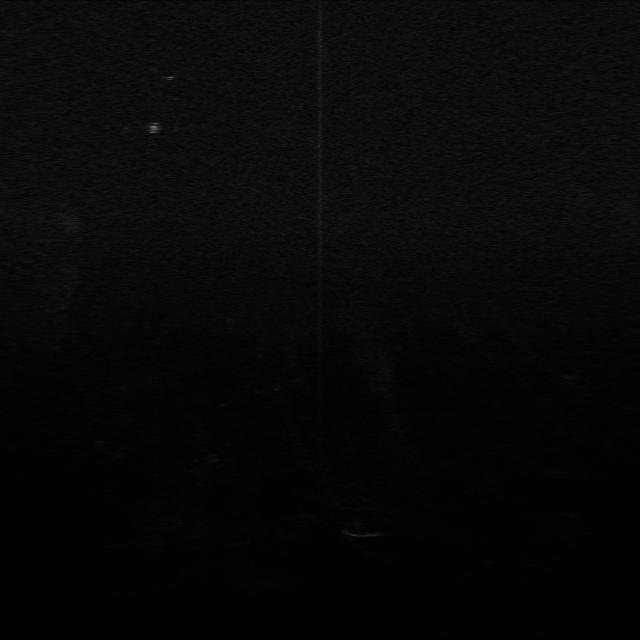rov: (142, 118, 168, 137)
